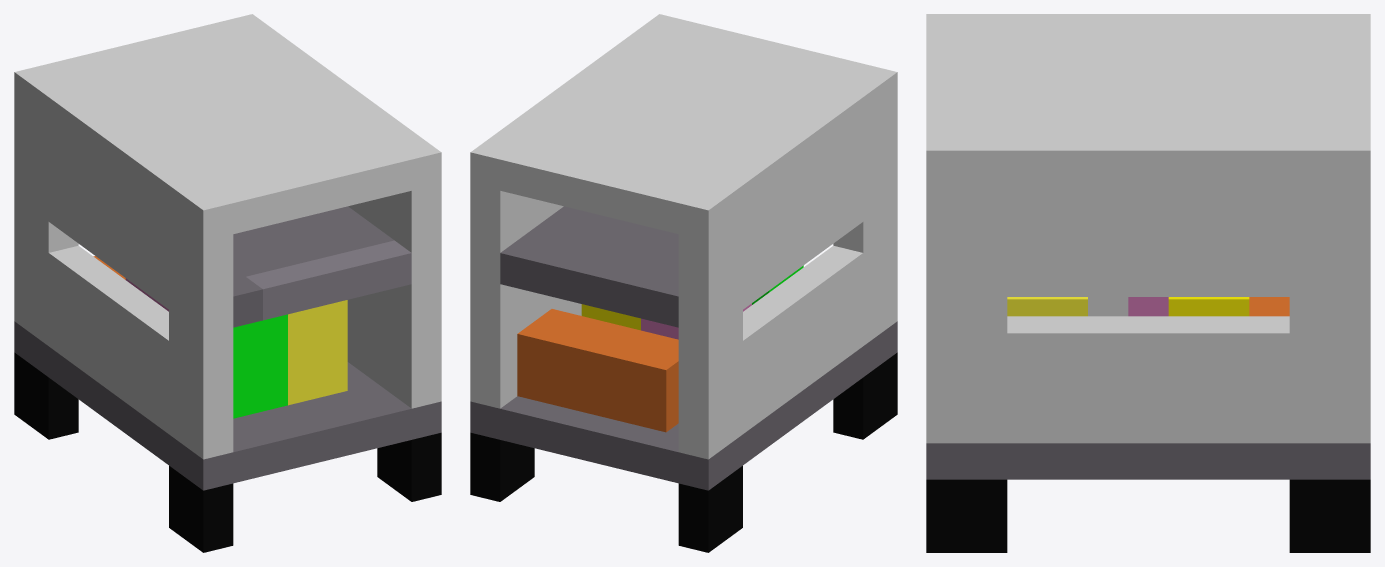
The model's file is cart.gltf.
The picture shows the model from 3 angles, left to right: view 1: azimuth 30°, elevation 25°; view 2: azimuth 150°, elevation 25°; view 3: azimuth 270°, elevation 25°; orthographic projection. The views are drawn at different scales.
Visible parts, largest first — view 1: Metal, Glass; view 2: Metal, Glass; view 3: Metal, Glass.
Boxes of the visible parts, left/top/right/bottom form: Metal: left=14, top=14, right=441, bottom=552; Glass: left=93, top=240, right=411, bottom=418; Metal: left=470, top=14, right=897, bottom=552; Glass: left=517, top=265, right=803, bottom=432; Metal: left=926, top=14, right=1370, bottom=552; Glass: left=1007, top=297, right=1289, bottom=316.
Bounding box in the file's own units: 8 × 11 × 11.
